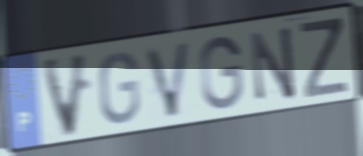G: (198, 34, 246, 113), (97, 50, 143, 127)
N: (248, 23, 298, 104)
V: (38, 49, 92, 141), (142, 38, 194, 121)
Z: (297, 16, 350, 102)
